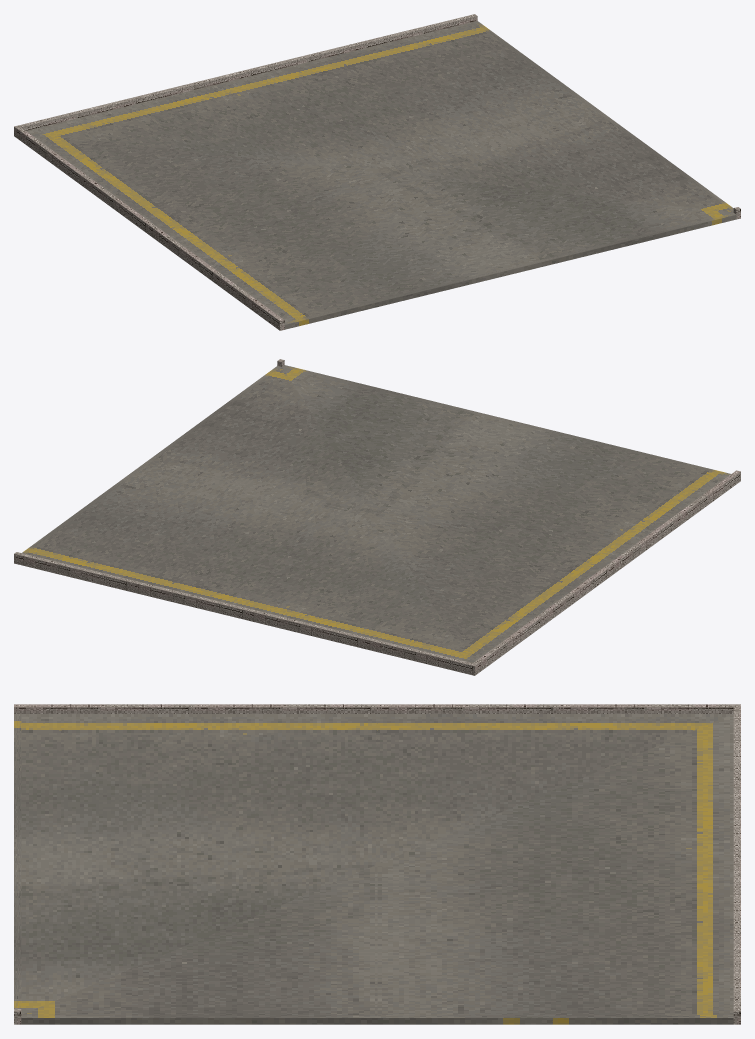
Rendered from road_2_corner_no_sides.glb.
3 views of the same model, one above another, from view 1: azimuth 30°, elevation 25°; view 2: azimuth 150°, elevation 25°; view 3: azimuth 270°, elevation 25° (orthographic). The views are drawn at different scales.
Parts seen in each view (by area): view 1: road_2_corner_no_sides; view 2: road_2_corner_no_sides; view 3: road_2_corner_no_sides.
Boxes of the visible parts, x1,y1,x2,y2 form: road_2_corner_no_sides: [14, 14, 740, 330]; road_2_corner_no_sides: [14, 359, 740, 675]; road_2_corner_no_sides: [14, 704, 740, 1024].
Size of the model in its own units: 16 by 0.32 by 16.
Materials: 2 (2 with a texture image).
